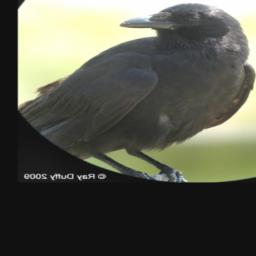Crow: (20, 2, 256, 182)
